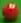red: (0, 0, 21, 23)
